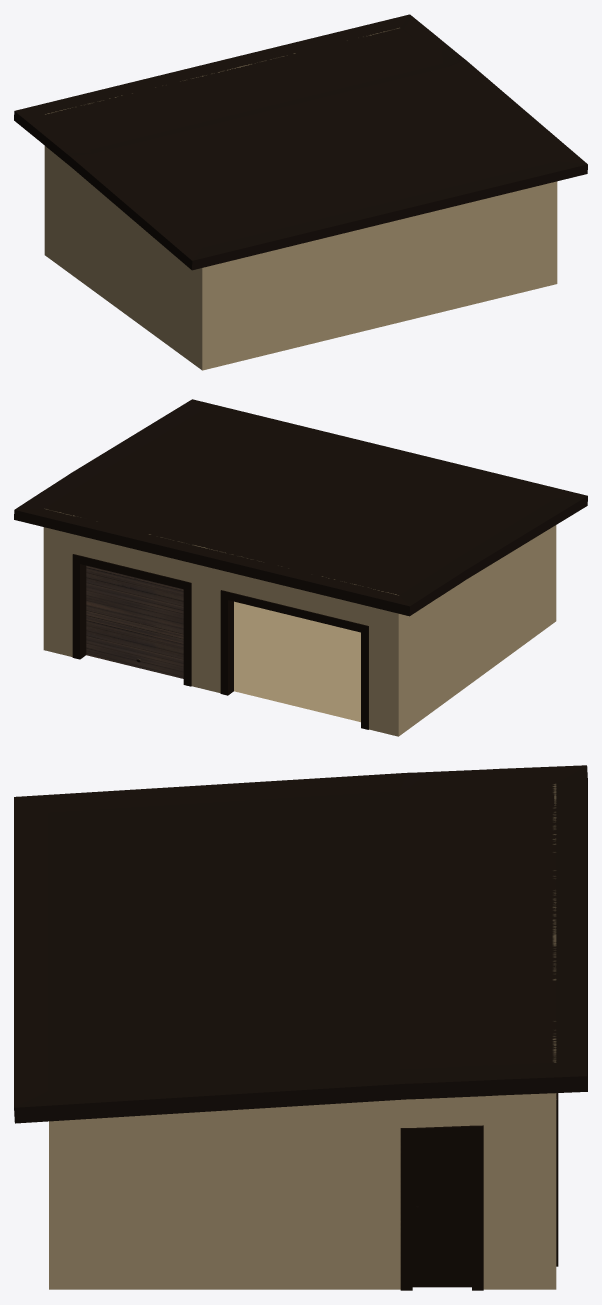
The model's file is garaj_fara_usa.obj.
The picture shows the model from 3 angles, top to bottom: view 1: azimuth 30°, elevation 25°; view 2: azimuth 150°, elevation 25°; view 3: azimuth 270°, elevation 25°; orthographic projection. The views are drawn at different scales.
Visible parts, largest first — view 1: Garage_Cube.001; view 2: Garage_Cube.001; view 3: Garage_Cube.001.
Part boxes in pixels (x1=…): Garage_Cube.001: x1=14, y1=14, x2=587, y2=370; Garage_Cube.001: x1=14, y1=399, x2=587, y2=736; Garage_Cube.001: x1=14, y1=765, x2=587, y2=1290.
Bounding box in the file's own units: 8.74 × 3.01 × 6.82.
Materials: 1 (1 with a texture image).
